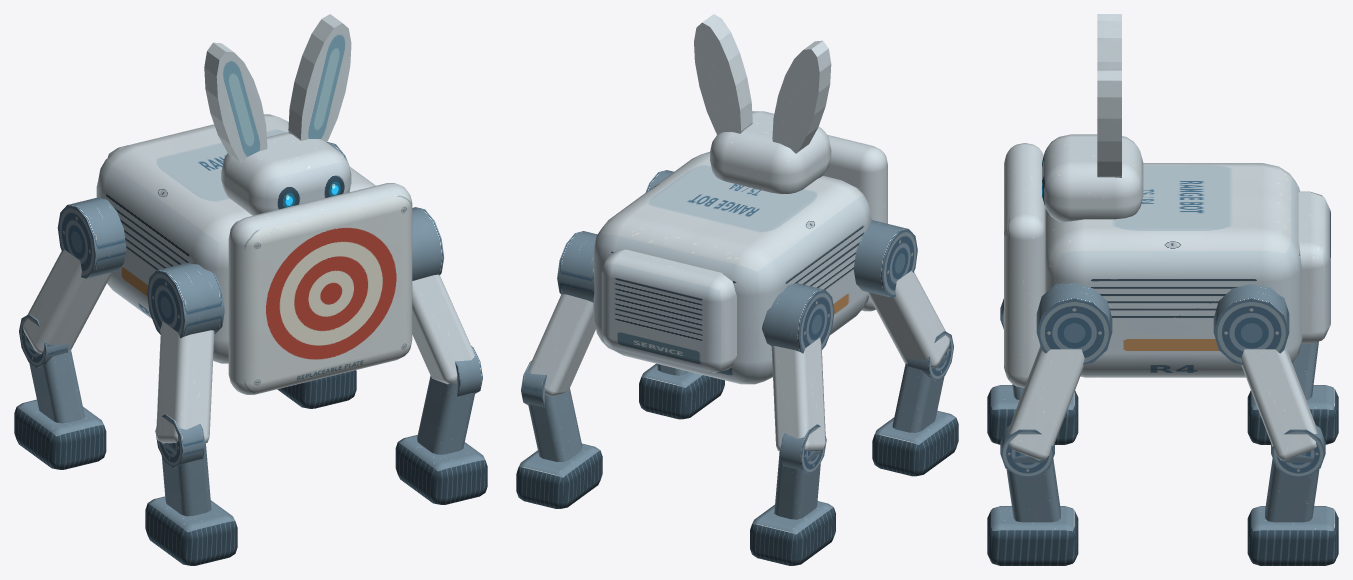
File: SM_RobotTarget.glb
3 views of the same model, side by side, from view 1: azimuth 30°, elevation 25°; view 2: azimuth 150°, elevation 25°; view 3: azimuth 270°, elevation 25° (orthographic). The views are drawn at different scales.
Parts seen in each view (by area): view 1: SM_RobotTarget; view 2: SM_RobotTarget; view 3: SM_RobotTarget.
Part boxes in pixels (bbox=[...]): SM_RobotTarget: bbox=[14, 14, 487, 565]; SM_RobotTarget: bbox=[516, 14, 958, 565]; SM_RobotTarget: bbox=[987, 14, 1338, 565].
Bounding box in the file's own units: 1.36 × 1.93 × 1.35.
1 material, 1 textured.
